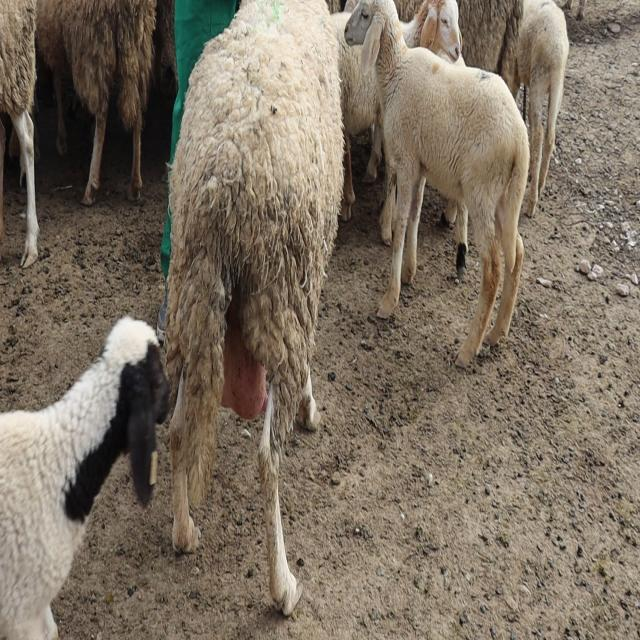Score_2: (164, 0, 344, 615)
